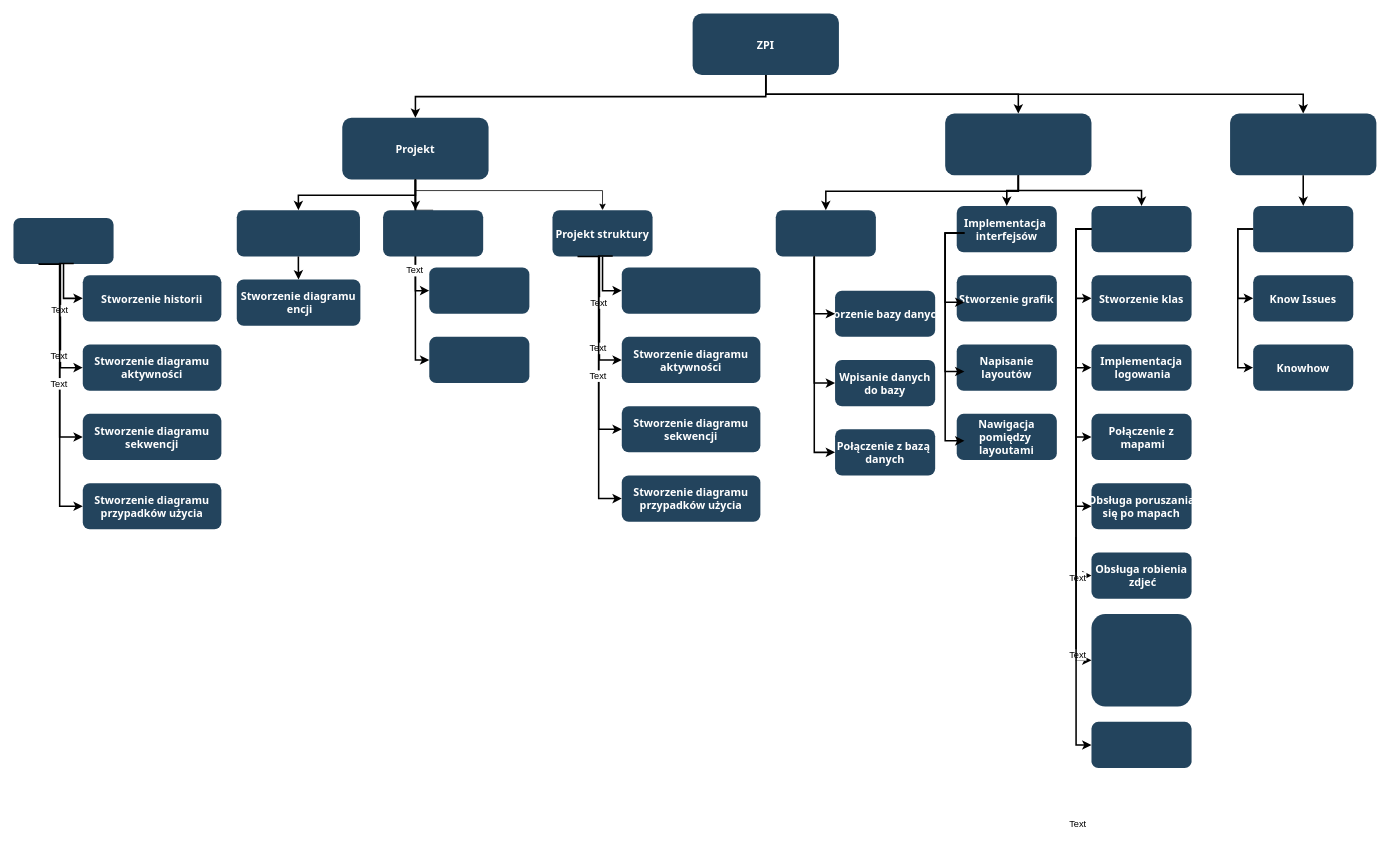
Image size: 1389x842. Some labels were removed from this diagram. Each missing label, with the centre of its shape:
FAQ: the point at 1303,229
Implementacja: the point at 1018,144
Implementacja bazy danych: the point at 825,233
Implementacja struktury: the point at 1141,229
Porównywanie zdjęcia z wymaganym za pomocą machine learningu: the point at 1141,660
Projekt bazy danych: the point at 298,233
Projekt fabuły: the point at 63,241
Projekt interfejsów: the point at 433,233
Stworzenie diagramu klas: the point at 690,290
Stworzenie fabuły: the point at 1141,744
Testowanie: the point at 1303,144
Wstępny szkic interfejsów: the point at 479,359
Wybór kolorystyki: the point at 479,290
